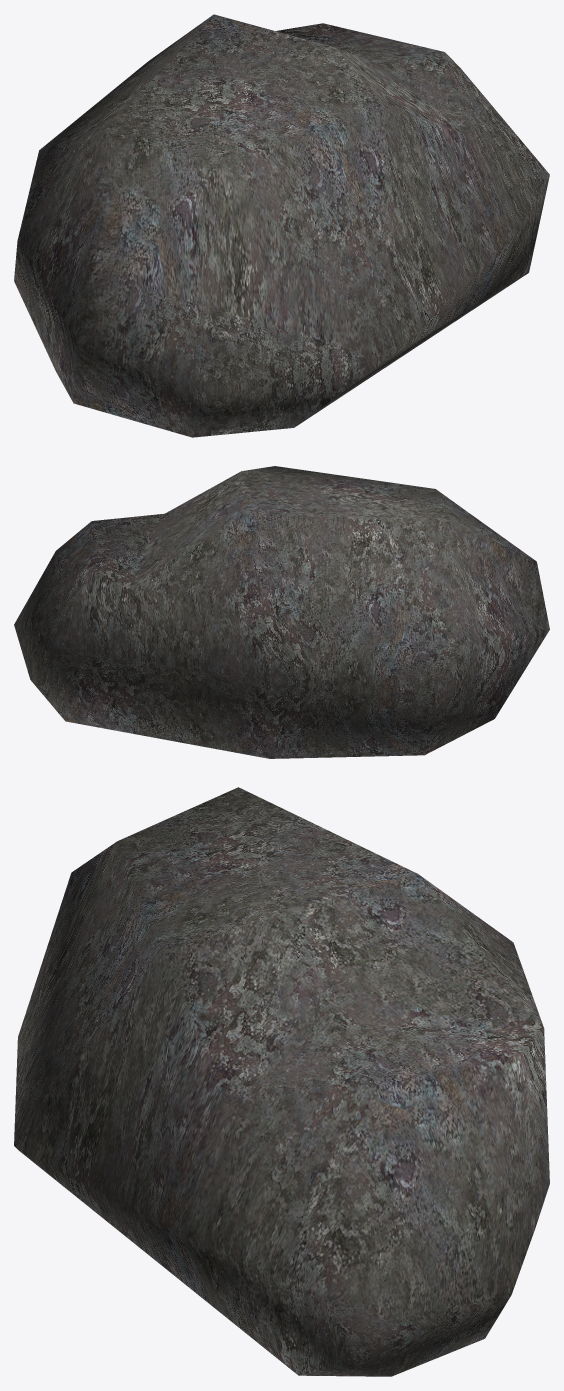
File: rock_volcanorockc_l2.fbx
3 views of the same model, one above another, from view 1: azimuth 30°, elevation 25°; view 2: azimuth 150°, elevation 25°; view 3: azimuth 270°, elevation 25° (orthographic). The views are drawn at different scales.
Parts seen in each view (by area): view 1: mesh_node; view 2: mesh_node; view 3: mesh_node.
Part boxes in pixels (<box>): mesh_node: <box>14,14,549,437</box>; mesh_node: <box>14,466,549,758</box>; mesh_node: <box>14,787,549,1376</box>.
Size of the model in its own units: 14.42 by 7.1 by 9.88.
1 material, 1 textured.
